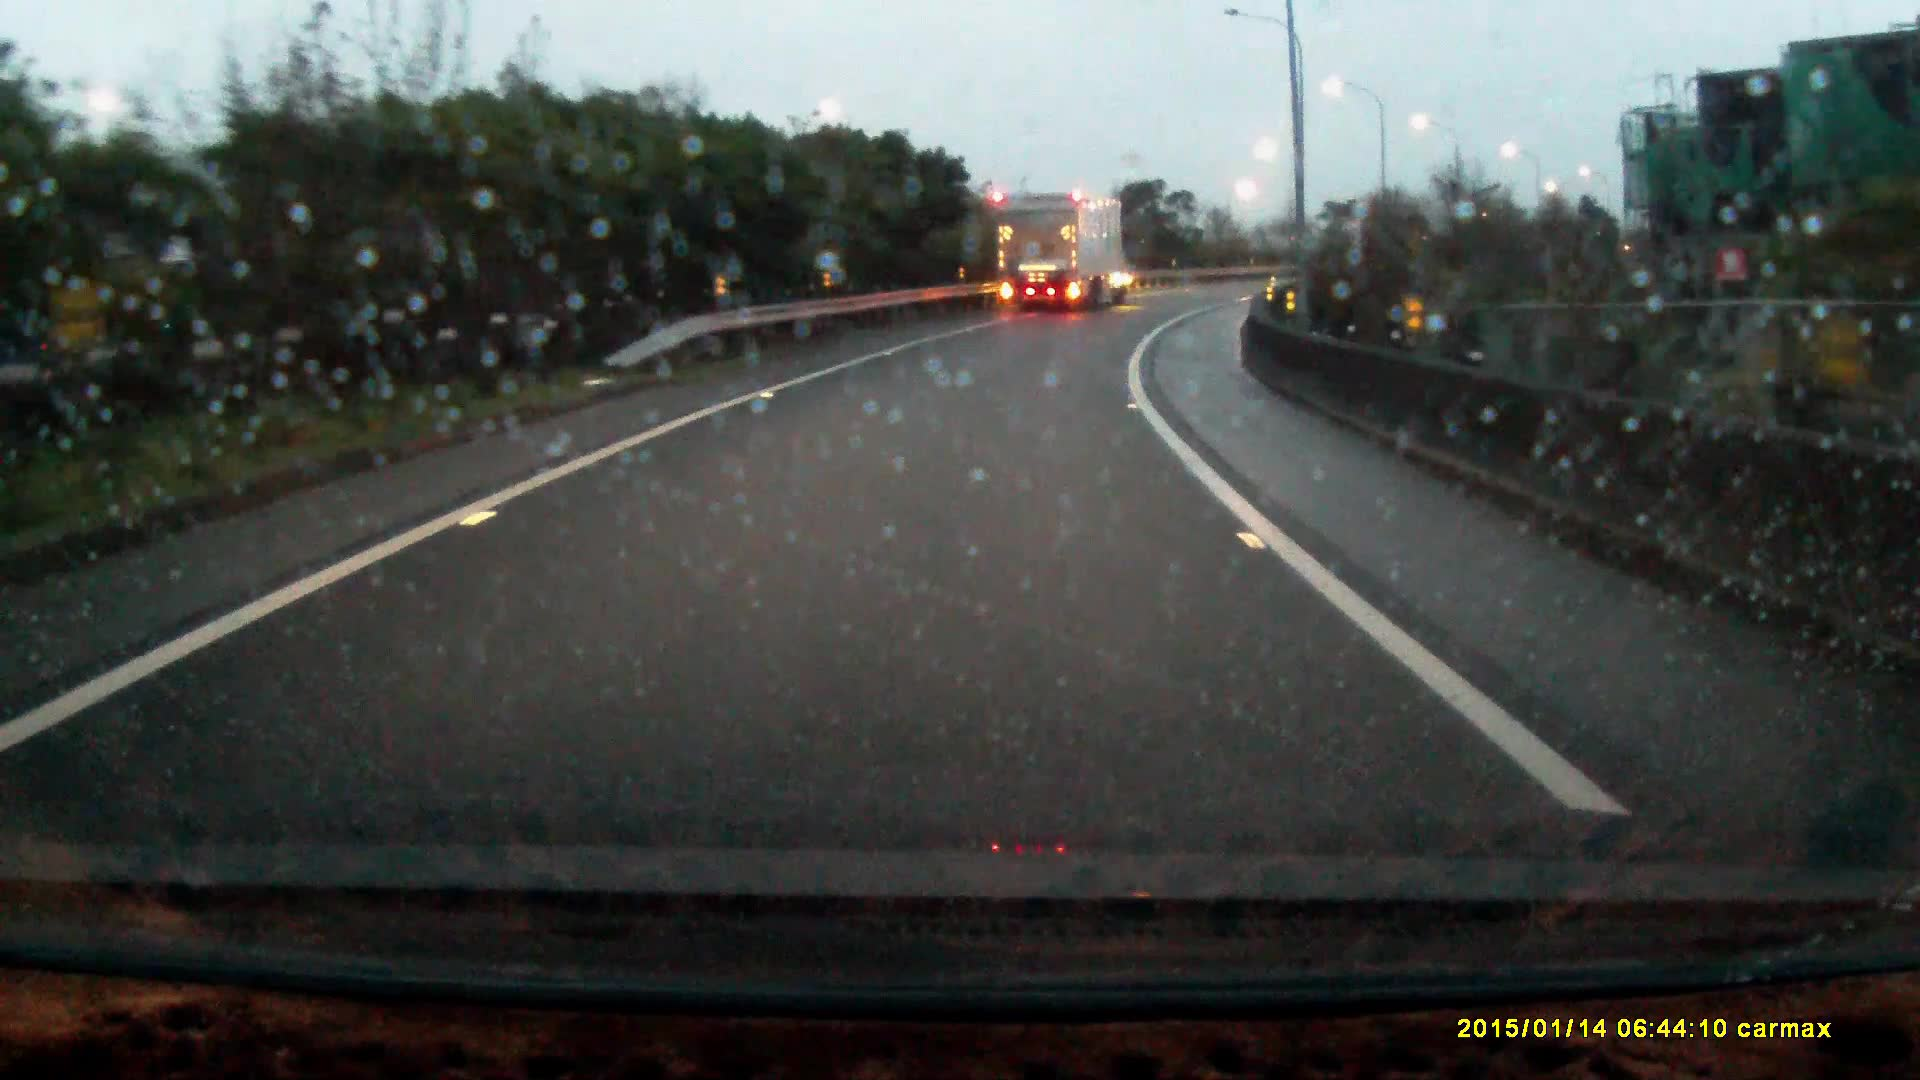vehicle: (993, 187, 1131, 309)
